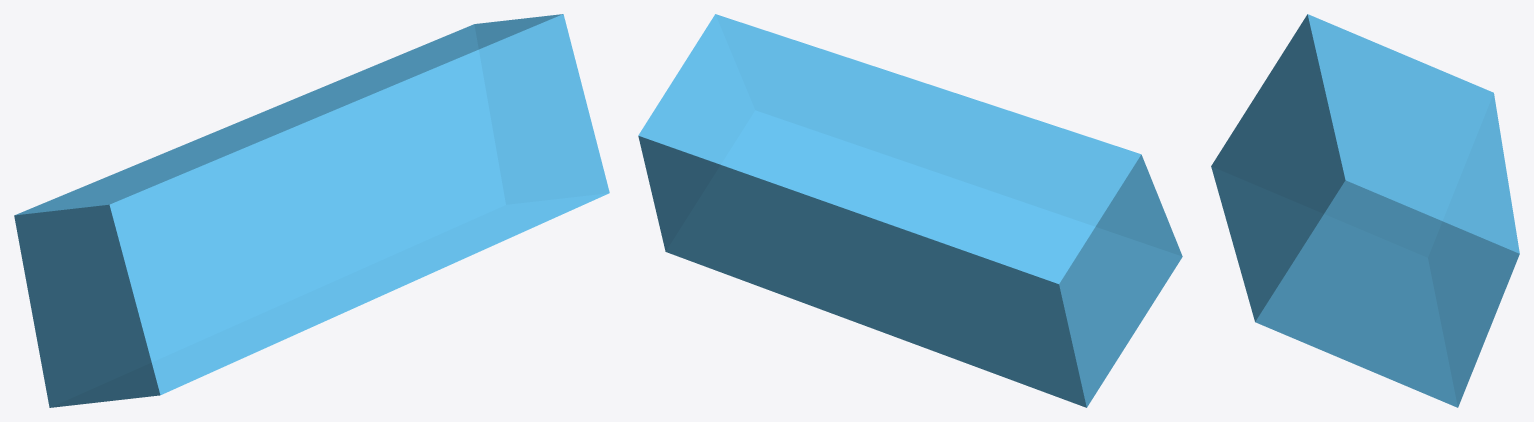
File: Event_420094457_HErechit_19.fbx
3 renders of one model, left to right at view 1: azimuth 30°, elevation 25°; view 2: azimuth 150°, elevation 25°; view 3: azimuth 270°, elevation 25°, orthographic. The views are drawn at different scales.
Visible parts, largest first — view 1: Model; view 2: Model; view 3: Model.
Boxes of the visible parts, x1,y1,x2,y2 form: Model: (14, 14, 609, 407); Model: (638, 14, 1182, 407); Model: (1211, 14, 1519, 407).
Bounding box in the file's own units: 0.6993 × 0.4371 × 0.4041.
